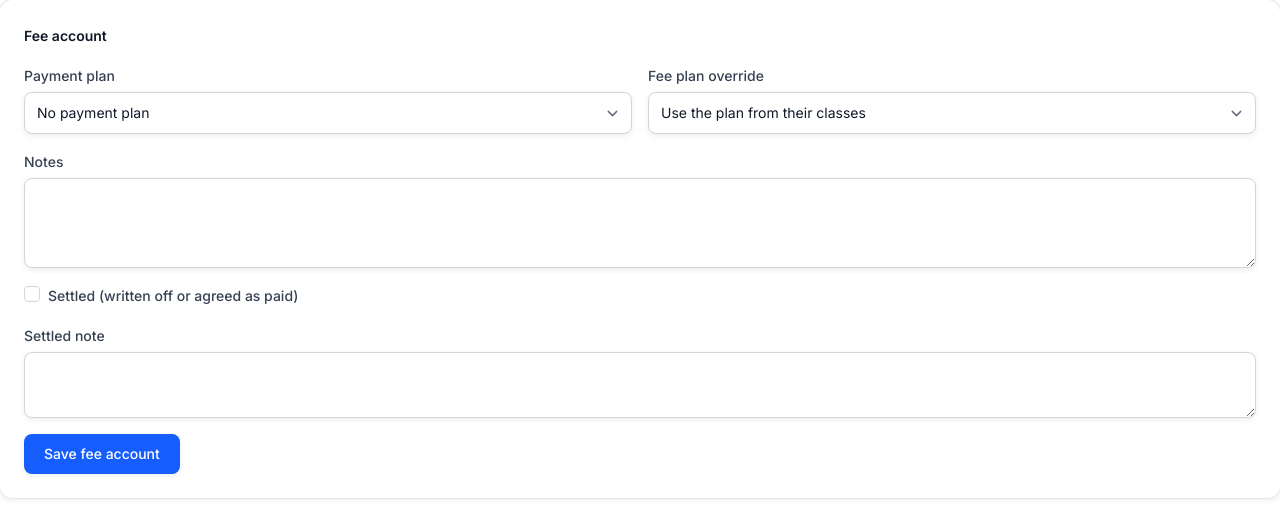
it: StudentFeesForm › shows an action error
This screenshot has width=1280, height=517.
Click the button "Save fee account": coordinates (102, 454) [24,434,180,474]
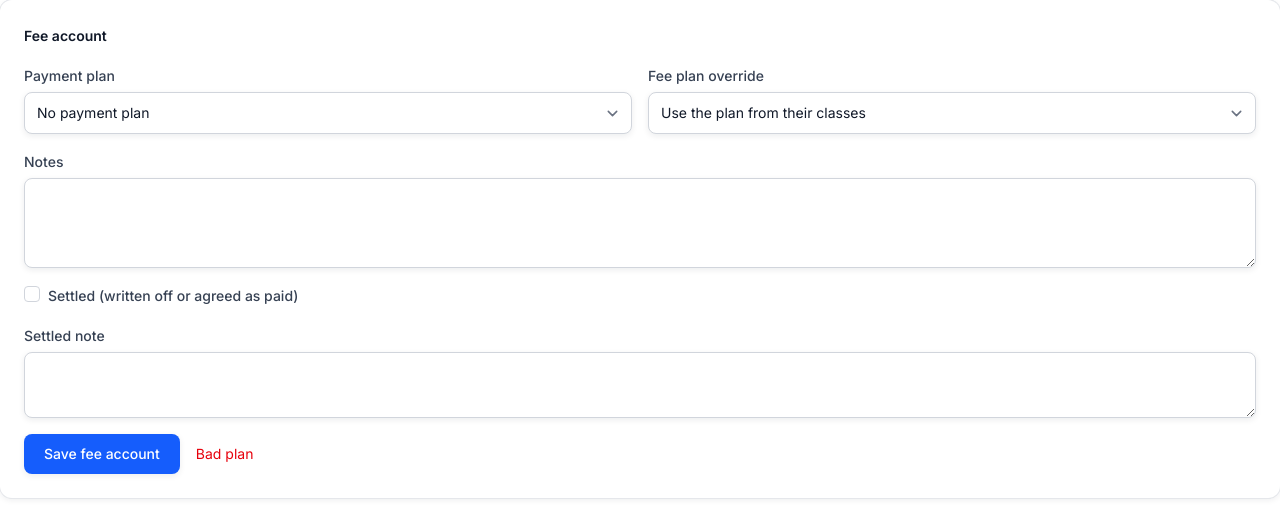
Expected: the message reads "Bad plan", [196,445,253,462]
